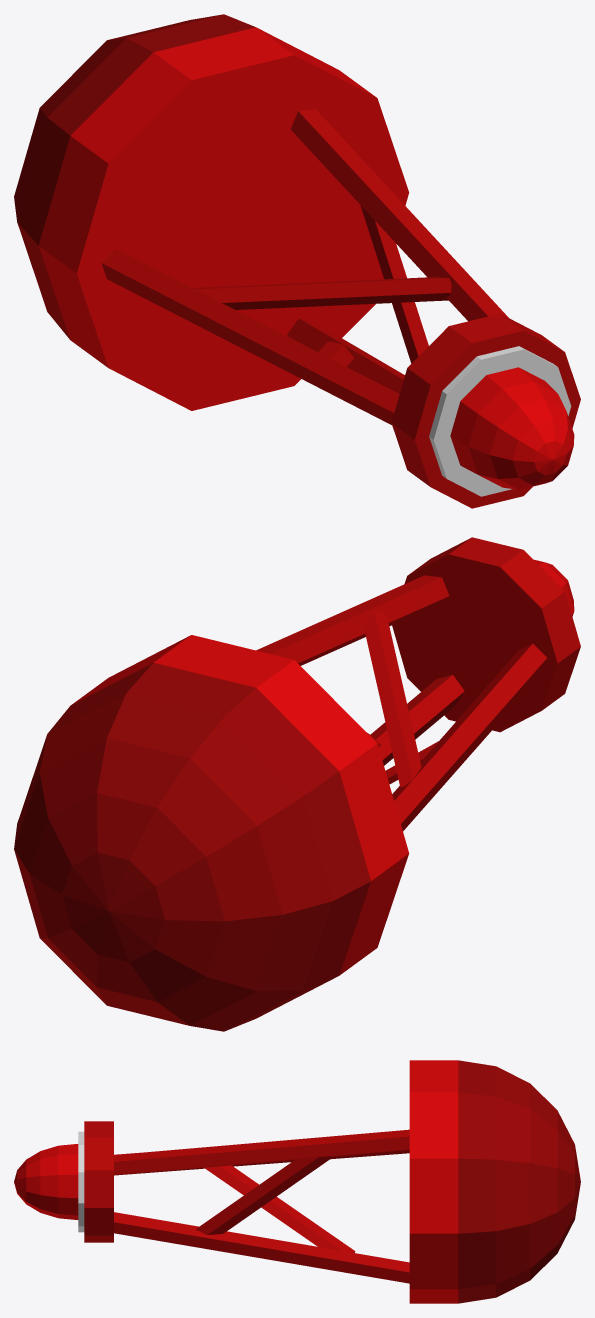
The model's file is Buoy_v02_obj.obj.
3 renders of one model, top to bottom at view 1: azimuth 30°, elevation 25°; view 2: azimuth 150°, elevation 25°; view 3: azimuth 270°, elevation 25°, orthographic. The views are drawn at different scales.
Parts seen in each view (by area): view 1: Object.10, Object.11, Object.1, Object.2, Object.9, Object.7, Object.6, Object.3, Object.4, Object.8; view 2: Object.11, Object.2, Object.10, Object.9, Object.7, Object.6, Object.8; view 3: Object.11, Object.10, Object.8, Object.7, Object.1, Object.2, Object.4, Object.5, Object.3, Object.9.
Part boxes in pixels (<box>): Object.10: <box>38,27,409,410</box>; Object.11: <box>14,14,255,339</box>; Object.1: <box>450,367,574,489</box>; Object.2: <box>391,313,580,508</box>; Object.9: <box>101,249,399,424</box>; Object.7: <box>290,109,508,321</box>; Object.6: <box>189,277,451,309</box>; Object.3: <box>429,346,571,496</box>; Object.4: <box>360,205,428,363</box>; Object.8: <box>287,318,404,393</box>; Object.11: <box>14,662,370,1031</box>; Object.2: <box>392,537,580,732</box>; Object.10: <box>72,635,409,975</box>; Object.9: <box>392,643,546,831</box>; Object.7: <box>256,575,449,665</box>; Object.6: <box>364,610,421,787</box>; Object.8: <box>370,675,464,765</box>; Object.11: <box>458,1060,580,1303</box>; Object.10: <box>409,1060,458,1303</box>; Object.8: <box>114,1212,409,1283</box>; Object.7: <box>114,1129,409,1175</box>; Object.1: <box>14,1144,78,1219</box>; Object.2: <box>84,1121,113,1242</box>; Object.4: <box>196,1156,332,1234</box>; Object.5: <box>204,1165,355,1252</box>; Object.3: <box>78,1131,84,1232</box>; Object.9: <box>114,1150,409,1175</box>.
Size of the model in its own units: 39.62 by 37.68 by 91.65.
